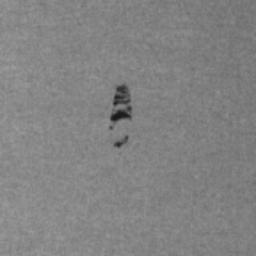Secondary rust skin: (108, 83, 133, 131), (113, 134, 129, 149)
